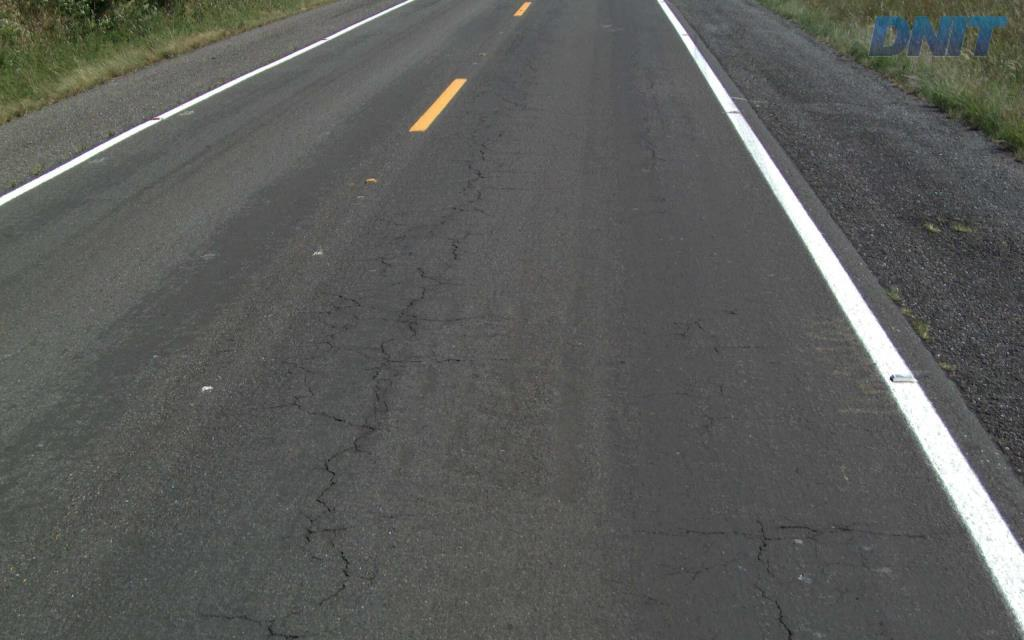crack: (311, 415, 381, 514)
